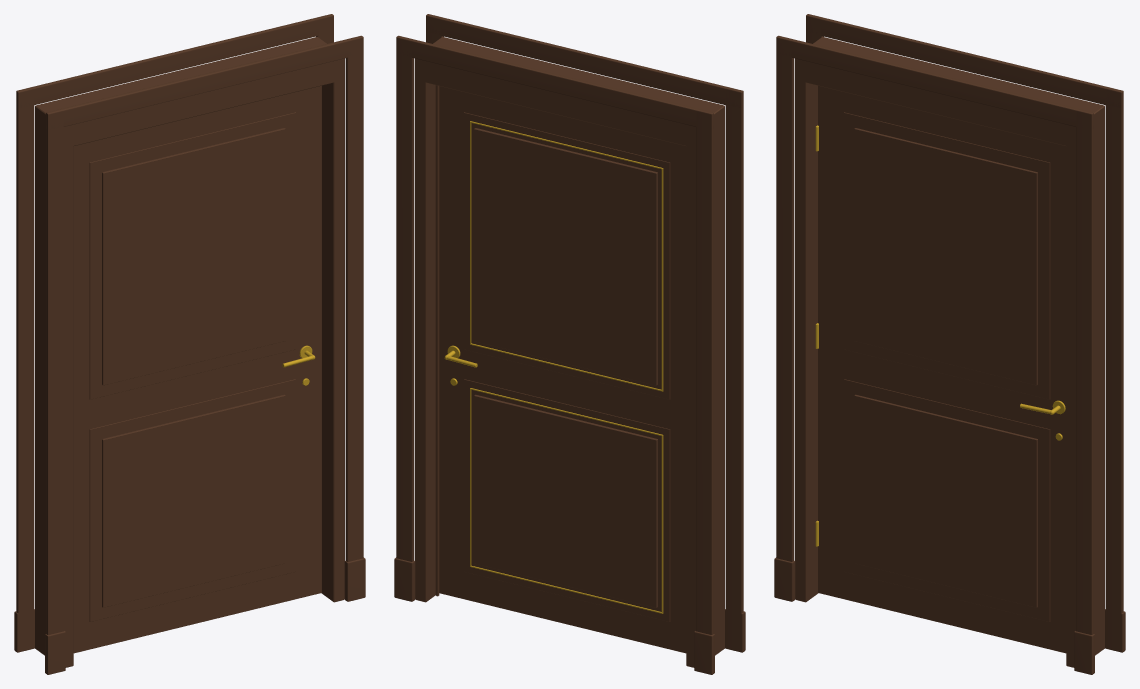
Rendered from prop_door_service_walnut_t20.glb.
The picture shows the model from 3 angles, left to right: view 1: azimuth 30°, elevation 25°; view 2: azimuth 150°, elevation 25°; view 3: azimuth 330°, elevation 25°; orthographic projection.
Visible parts, largest first — view 1: LeafMesh, Frame; view 2: LeafMesh, Frame; view 3: LeafMesh, Frame.
Boxes of the visible parts, <box> form: LeafMesh: <box>73,85,321,653</box>; Frame: <box>14,14,365,674</box>; LeafMesh: <box>439,86,686,653</box>; Frame: <box>394,14,745,674</box>; LeafMesh: <box>815,85,1066,653</box>; Frame: <box>774,14,1125,674</box>.
Size of what is drawn, in the model's own units: 1.35 by 2.27 by 0.248.
